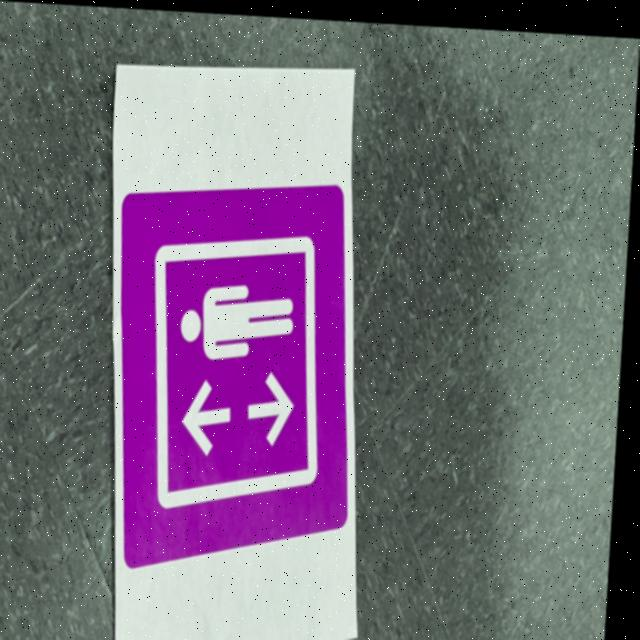elevator: (119, 185, 345, 564)
